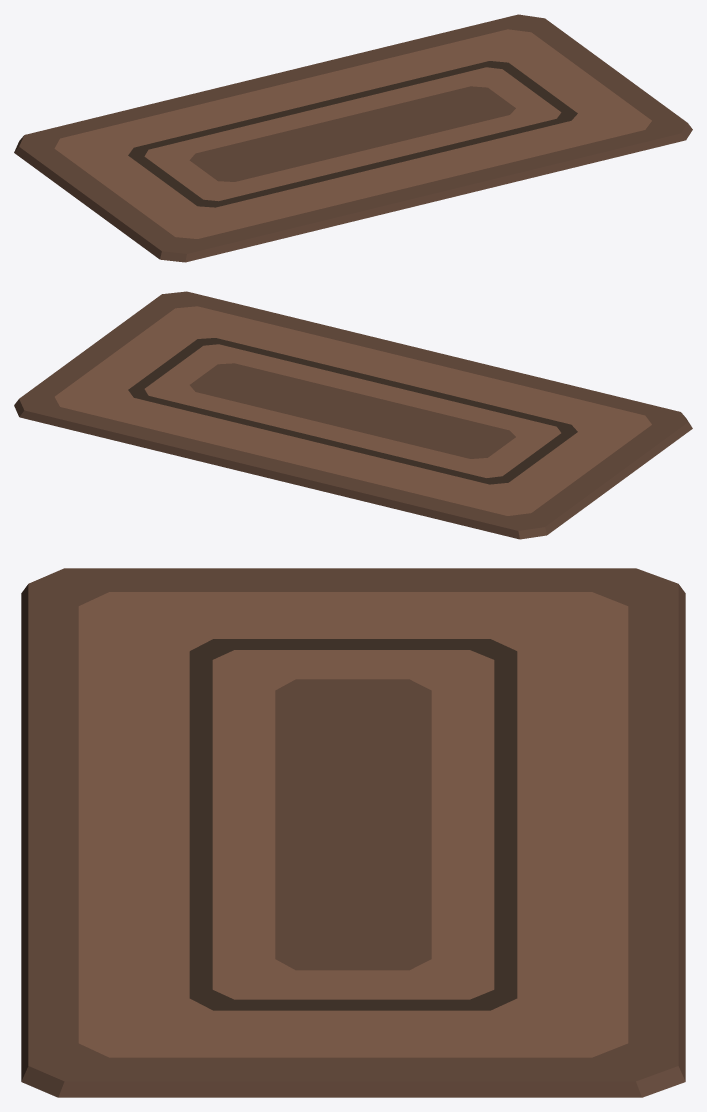
Rendered from SM_Prop_Rug_03.fbx.
3 views of the same model, one above another, from view 1: azimuth 30°, elevation 25°; view 2: azimuth 150°, elevation 25°; view 3: azimuth 270°, elevation 25° (orthographic). The views are drawn at different scales.
Visible parts, largest first — view 1: SM_Prop_Rug_03; view 2: SM_Prop_Rug_03; view 3: SM_Prop_Rug_03.
Part boxes in pixels (x1,y1,x2,y2): SM_Prop_Rug_03: [14, 14, 692, 262]; SM_Prop_Rug_03: [14, 291, 692, 539]; SM_Prop_Rug_03: [21, 568, 685, 1097].
Bounding box in the file's own units: 272 × 3.14 × 147.
